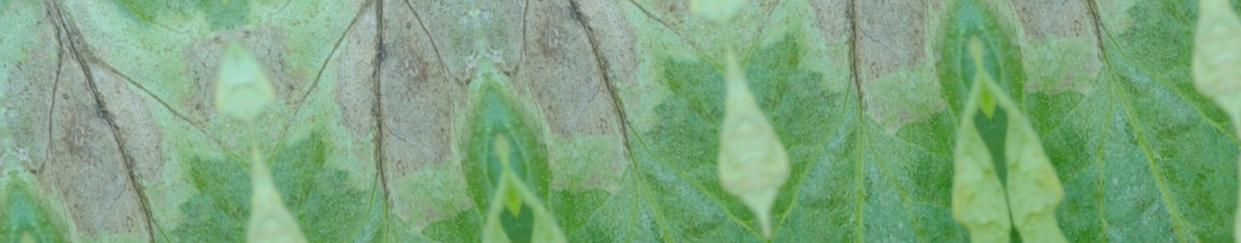Tomato leaf late blight: (376, 0, 865, 243)
